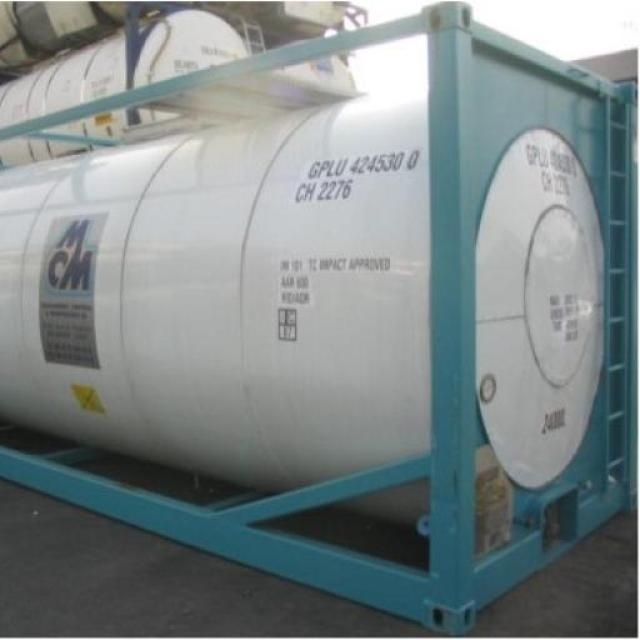ISO: (296, 180, 358, 203)
container_number: (303, 153, 424, 177)
